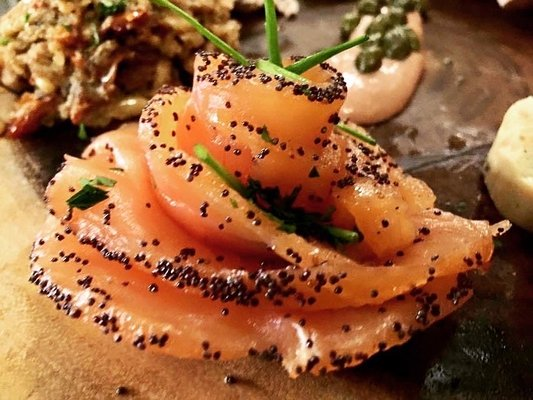curry: (287, 0, 429, 76)
